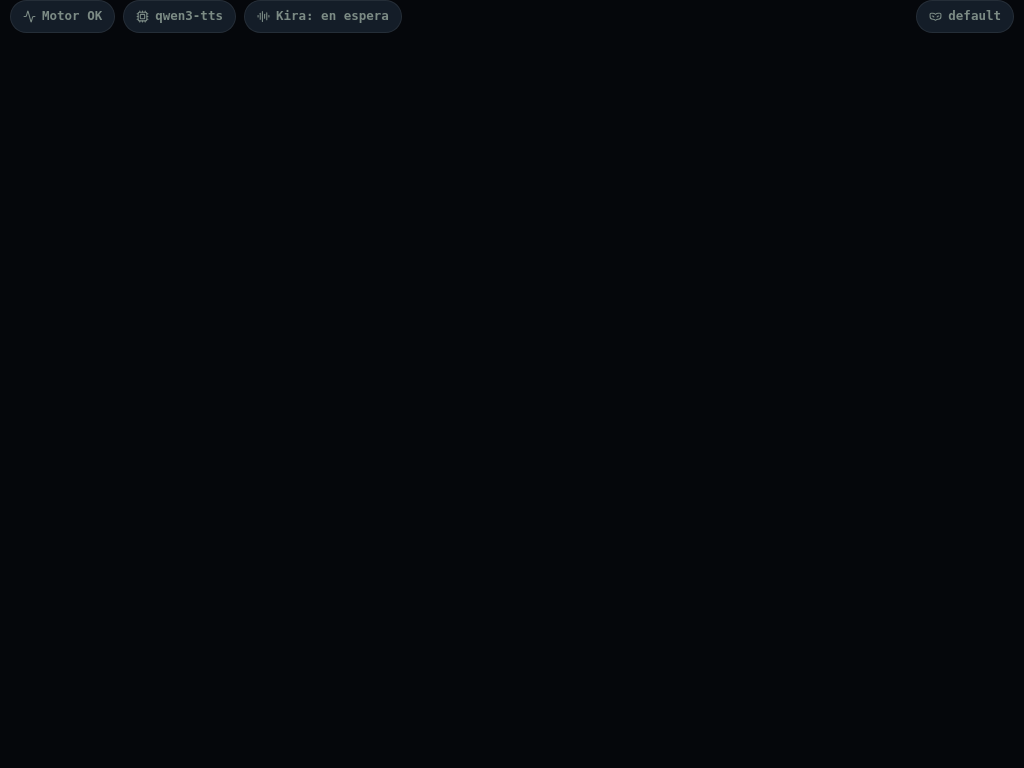
StatusRail — adjust round 2 (owner runtime feedback, 2026-07-15) › shows 'sin datos aún' for the Velocidad row when rtf_rolling_avg is null
The image size is (1024, 768).
What coordinates should you click on to do the following:
click the button "Motor OK"
I would click on:
 (63, 16)
Its box is x1=10 y1=0 x2=115 y2=33.
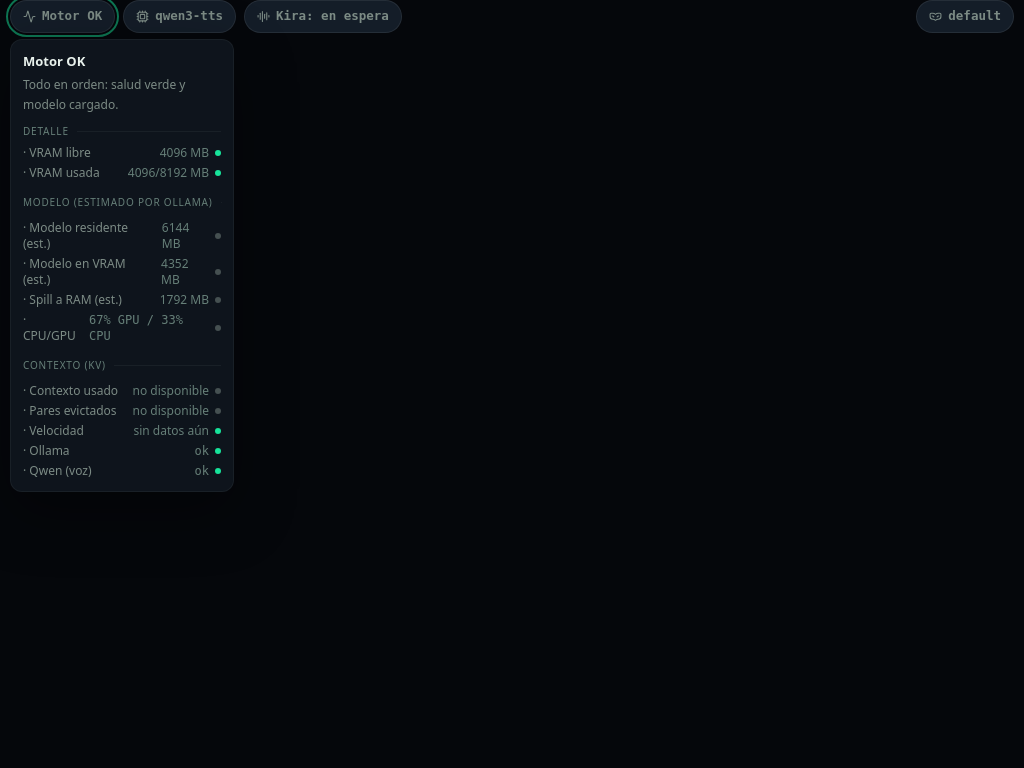
Now the dialog "Motor OK" shows "sin datos aún", box x1=134 y1=422 x2=209 y2=439
